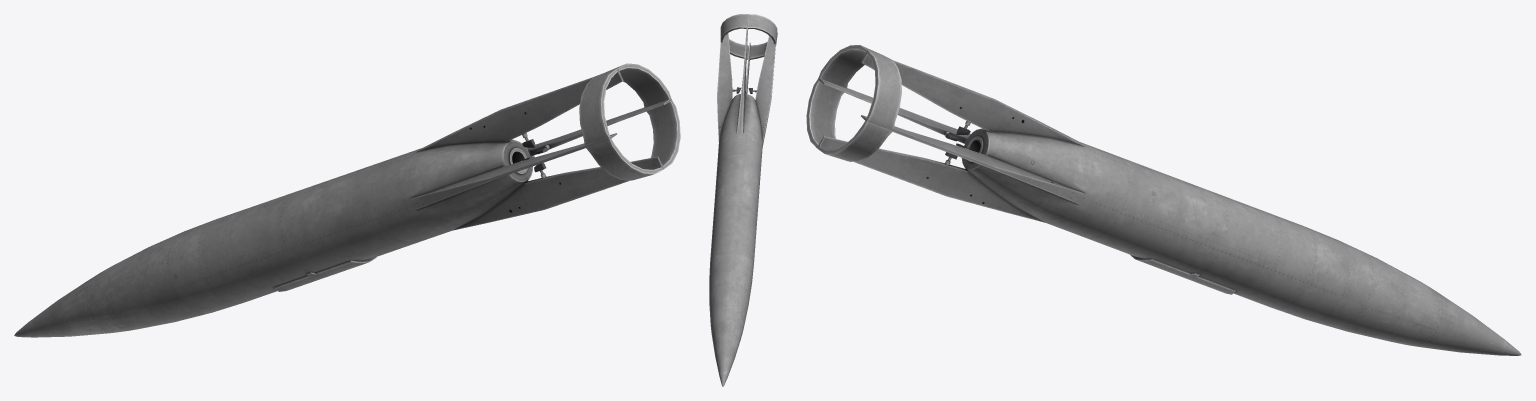
The model's file is Enemy3.fbx.
The picture shows the model from 3 angles, left to right: view 1: azimuth 30°, elevation 25°; view 2: azimuth 150°, elevation 25°; view 3: azimuth 270°, elevation 25°; orthographic projection. The views are drawn at different scales.
Visible parts, largest first — view 1: German Interwar A3 Rocket.001; view 2: German Interwar A3 Rocket.001; view 3: German Interwar A3 Rocket.001.
Boxes of the visible parts, x1,y1,x2,y2 form: German Interwar A3 Rocket.001: [14, 63, 680, 337]; German Interwar A3 Rocket.001: [709, 14, 777, 386]; German Interwar A3 Rocket.001: [806, 45, 1521, 355].
Bounding box in the file's own units: 297 × 375 × 553.
1 material, 1 textured.
